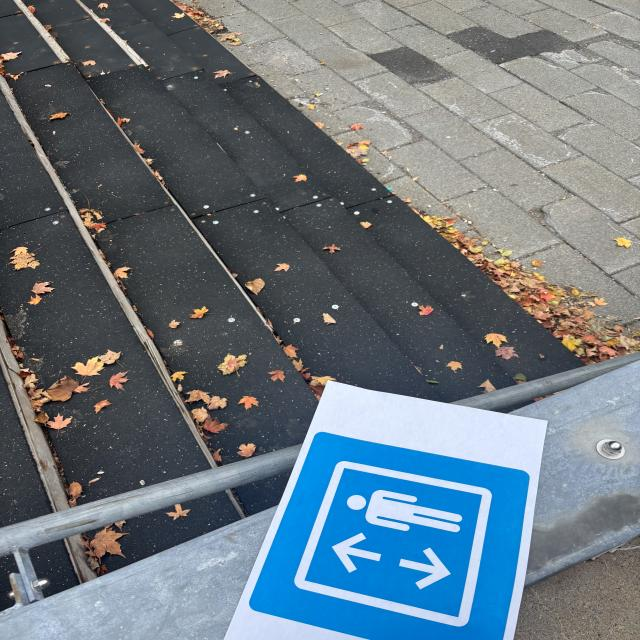elevator: (244, 432, 530, 640)
